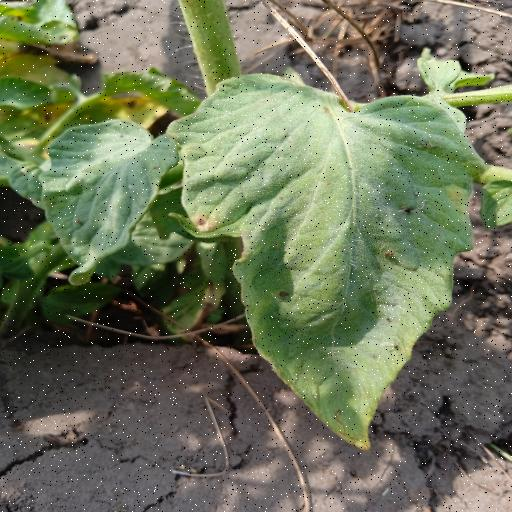Tomato_Mildiou: (156, 68, 502, 451)
